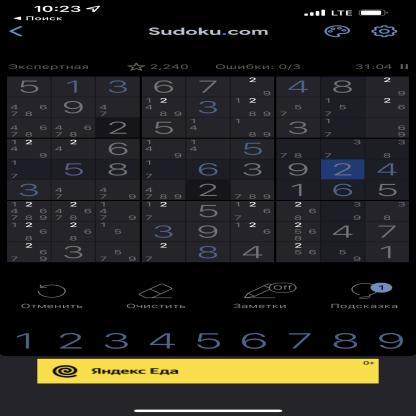sudoku: (4, 72, 415, 266)
